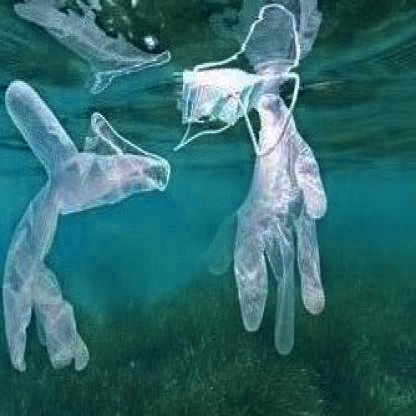Mask: (171, 60, 295, 158)
glove: (1, 76, 171, 378), (206, 113, 332, 356)
